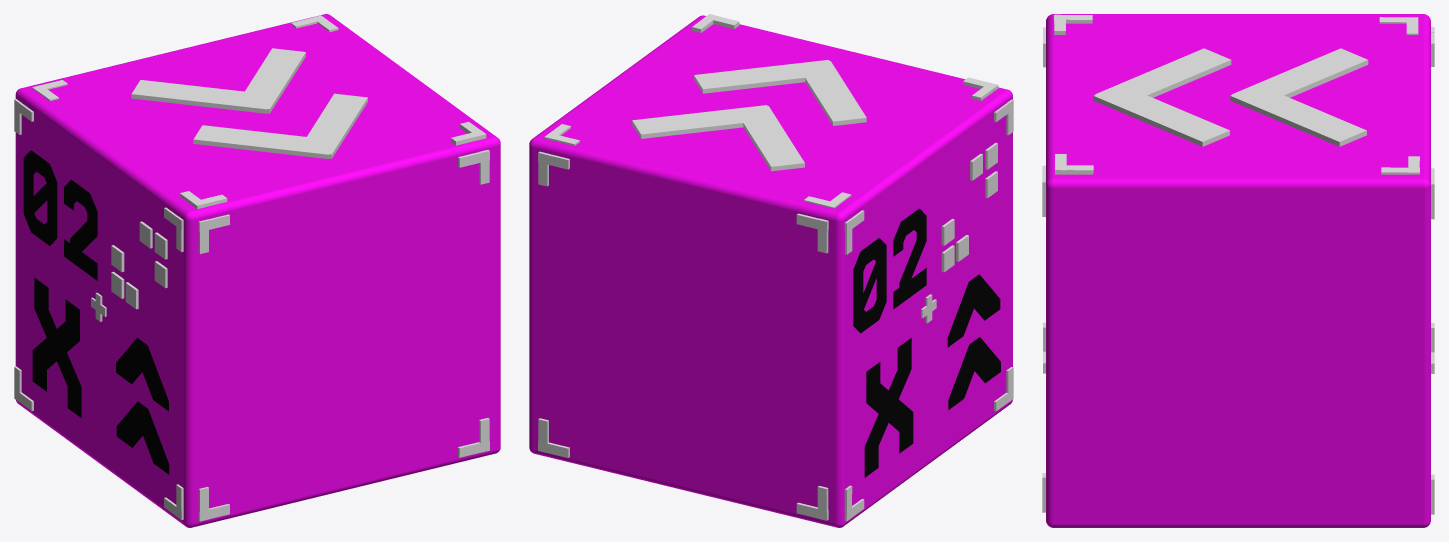
The picture shows the model from 3 angles, left to right: view 1: azimuth 30°, elevation 25°; view 2: azimuth 150°, elevation 25°; view 3: azimuth 270°, elevation 25°; orthographic projection. The views are drawn at different scales.
Visible parts, largest first — view 1: Cube.001, Cube.005, Text.001, Cube, Cube.004, Cube.003, Cube.002, Text, Text.049, Text.060, Text.041, Cube.006 (+1 smaller); view 2: Cube.001, Cube.005, Text.001, Cube.002, Cube.003, Cube, Cube.004, Text, Text.060, Text.049, Text.041, Cube.009 (+1 smaller); view 3: Cube.001, Cube.005, Cube.003, Cube.002, Cube, Cube.004.
Boxes of the visible parts, bbox=[...] form: Cube.001: bbox=[15, 14, 500, 527]; Cube.005: bbox=[14, 15, 489, 521]; Text.001: bbox=[23, 150, 97, 280]; Cube: bbox=[131, 80, 269, 113]; Cube.004: bbox=[193, 125, 330, 158]; Cube.003: bbox=[298, 93, 367, 158]; Cube.002: bbox=[245, 48, 305, 113]; Text: bbox=[34, 277, 81, 417]; Text.049: bbox=[116, 401, 169, 474]; Text.060: bbox=[116, 338, 168, 411]; Text.041: bbox=[32, 299, 79, 391]; Cube.006: bbox=[139, 221, 167, 288]; Cube.001: bbox=[529, 15, 1012, 527]; Cube.005: bbox=[538, 14, 1013, 521]; Text.001: bbox=[853, 208, 926, 333]; Cube.002: bbox=[632, 105, 774, 138]; Cube.003: bbox=[694, 59, 829, 93]; Cube: bbox=[738, 106, 804, 171]; Cube.004: bbox=[802, 61, 866, 125]; Text: bbox=[866, 362, 913, 453]; Text.060: bbox=[947, 274, 1000, 347]; Text.049: bbox=[948, 337, 1000, 409]; Text.041: bbox=[864, 338, 911, 477]; Cube.009: bbox=[941, 218, 968, 272]; Cube.001: bbox=[1046, 14, 1430, 527]; Cube.005: bbox=[1042, 14, 1434, 514]; Cube.003: bbox=[1093, 87, 1229, 146]; Cube.002: bbox=[1230, 90, 1366, 146]; Cube: bbox=[1231, 48, 1368, 102]; Cube.004: bbox=[1094, 48, 1231, 97].
Size of the model in its own units: 210 by 202 by 203.
